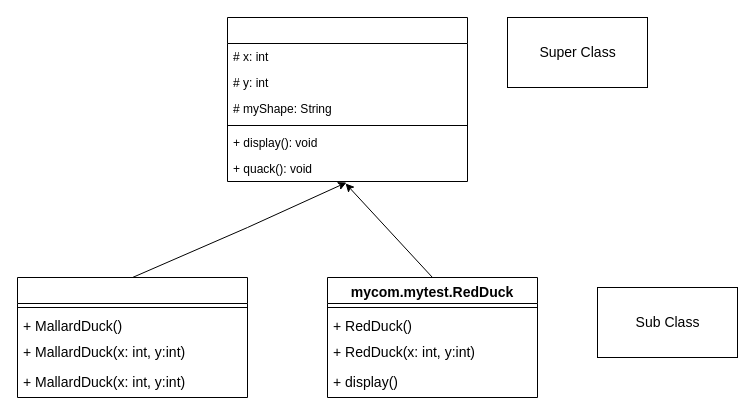
The diagram is 755 pixels wide and 418 high, and some of its shapes have lost their labels. Here are the shapes that lost their labels. From the top down, the box of each, then its label:
(226, 16, 468, 182): mycom.mytest.Duck
(16, 276, 248, 398): mycom.mytest.MallardDuck
